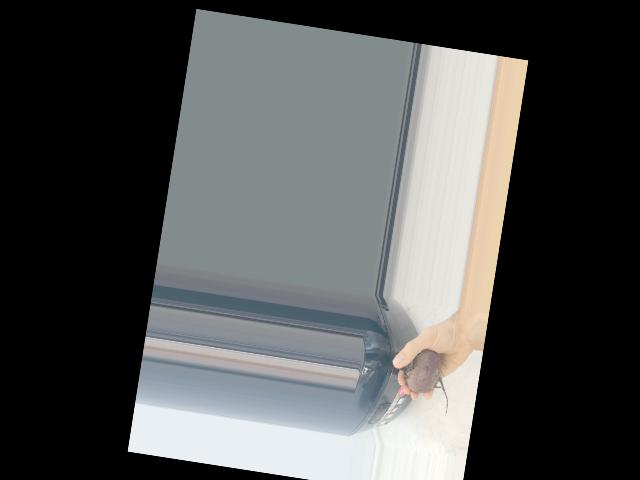beet: (393, 345, 456, 415)
